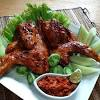ayam_geprek: (10, 22, 88, 72)
